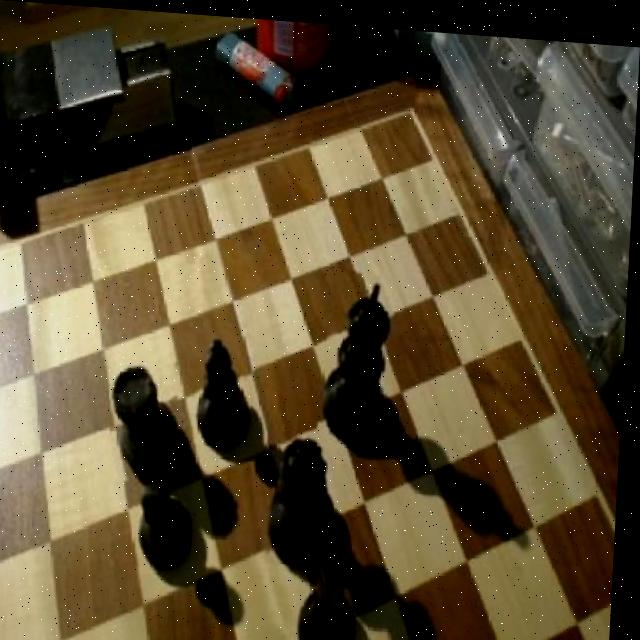bishop: (198, 328, 260, 446)
black-bishop: (322, 266, 396, 443)
black-king: (297, 542, 368, 640)
black-knight: (137, 474, 198, 568)
black-pawn: (268, 421, 345, 565)
black-queen: (110, 359, 187, 482)
